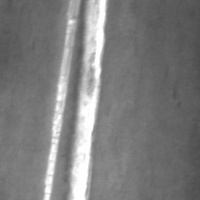inclusion: (155, 191, 169, 199)
scratches: (57, 0, 113, 199), (40, 0, 83, 199)
